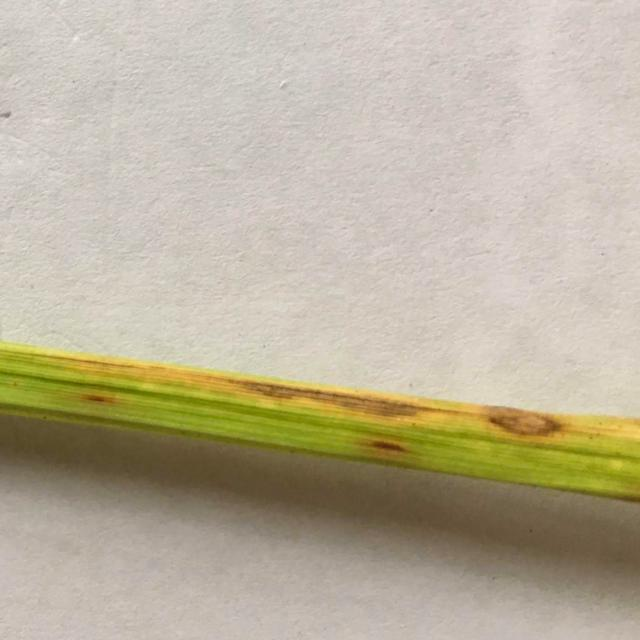Blast: (488, 415, 562, 437), (364, 434, 412, 456), (350, 398, 404, 414), (243, 383, 285, 403), (301, 390, 342, 410), (78, 390, 114, 408)
